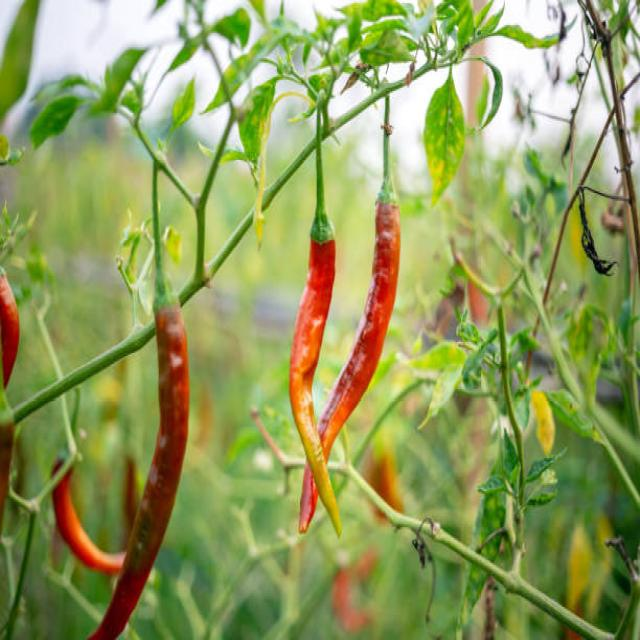Half-Ripe: (90, 302, 188, 638), (289, 238, 340, 535)
Ripe: (318, 197, 400, 458), (299, 467, 316, 532)
